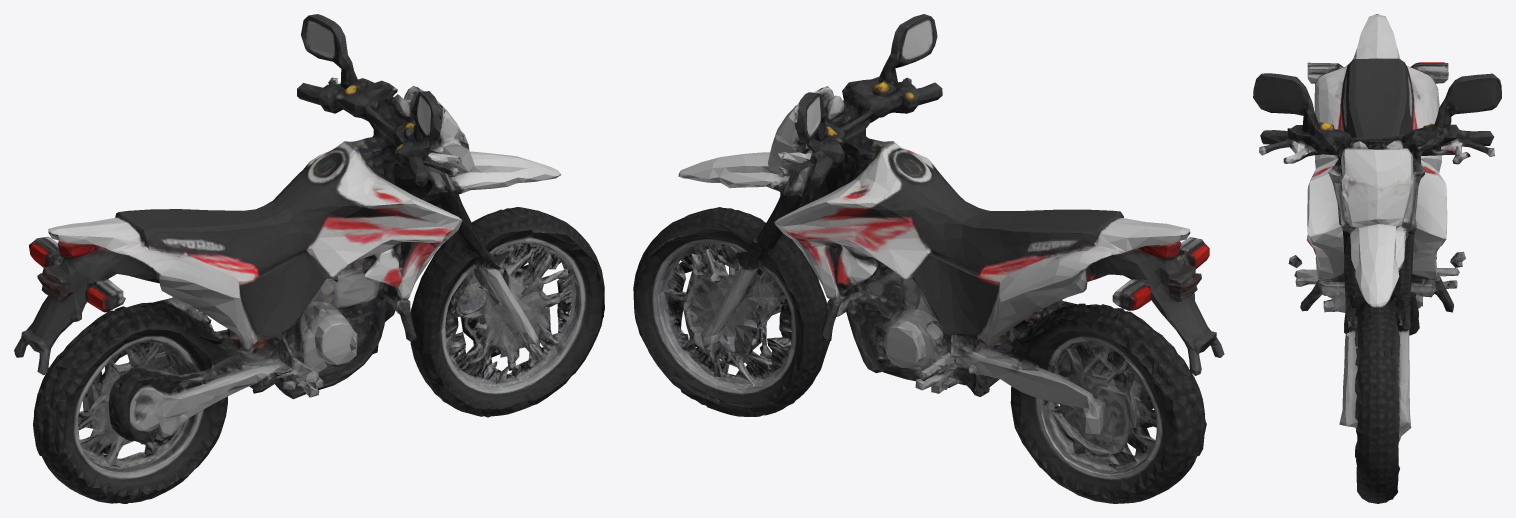
Rendered from KABIR A1 249.glb.
3 views of the same model, side by side, from view 1: azimuth 30°, elevation 25°; view 2: azimuth 150°, elevation 25°; view 3: azimuth 270°, elevation 25° (orthographic). The views are drawn at different scales.
Parts seen in each view (by area): view 1: world; view 2: world; view 3: world.
Boxes of the visible parts, bbox=[...] form: world: bbox=[14, 14, 604, 503]; world: bbox=[633, 14, 1224, 503]; world: bbox=[1253, 14, 1501, 503].
Size of the model in its own units: 1 by 0.6415 by 0.4019.
Materials: 1 (1 with a texture image).
